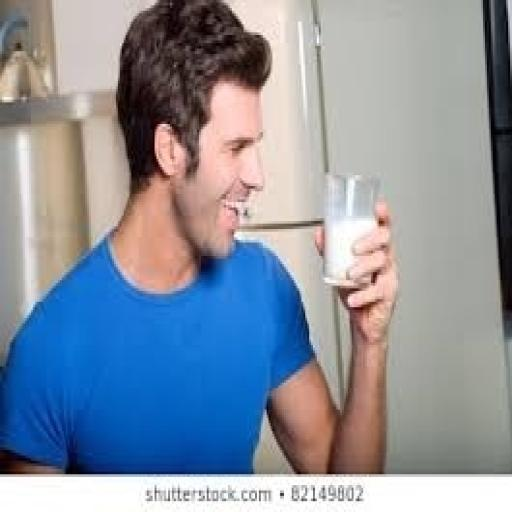drinking: (320, 170, 378, 288)
